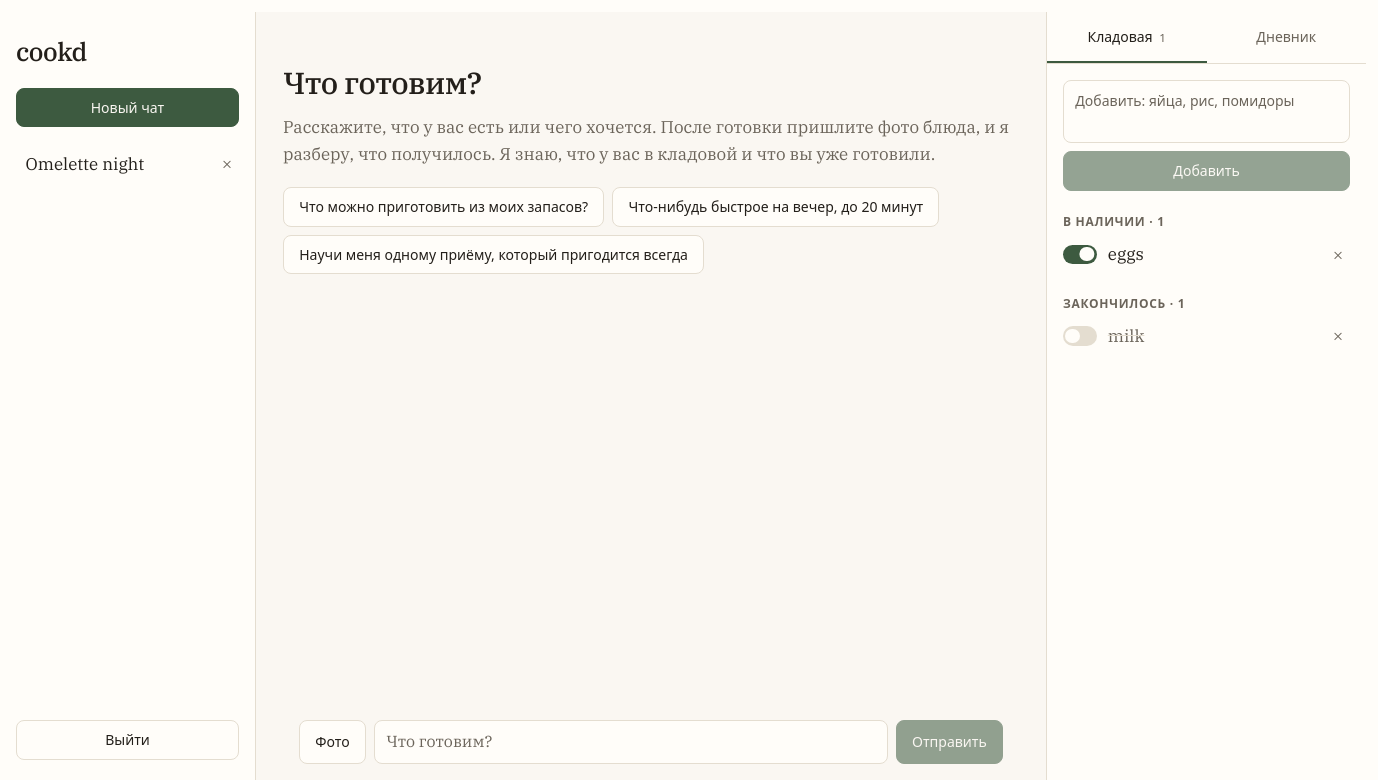
it: Workspace › moves an ingredient to Out when its switch is flipped
The image size is (1378, 780).
Step 1. Click the switch labelled "eggs" → [1080, 254], box [1063, 245, 1097, 264]
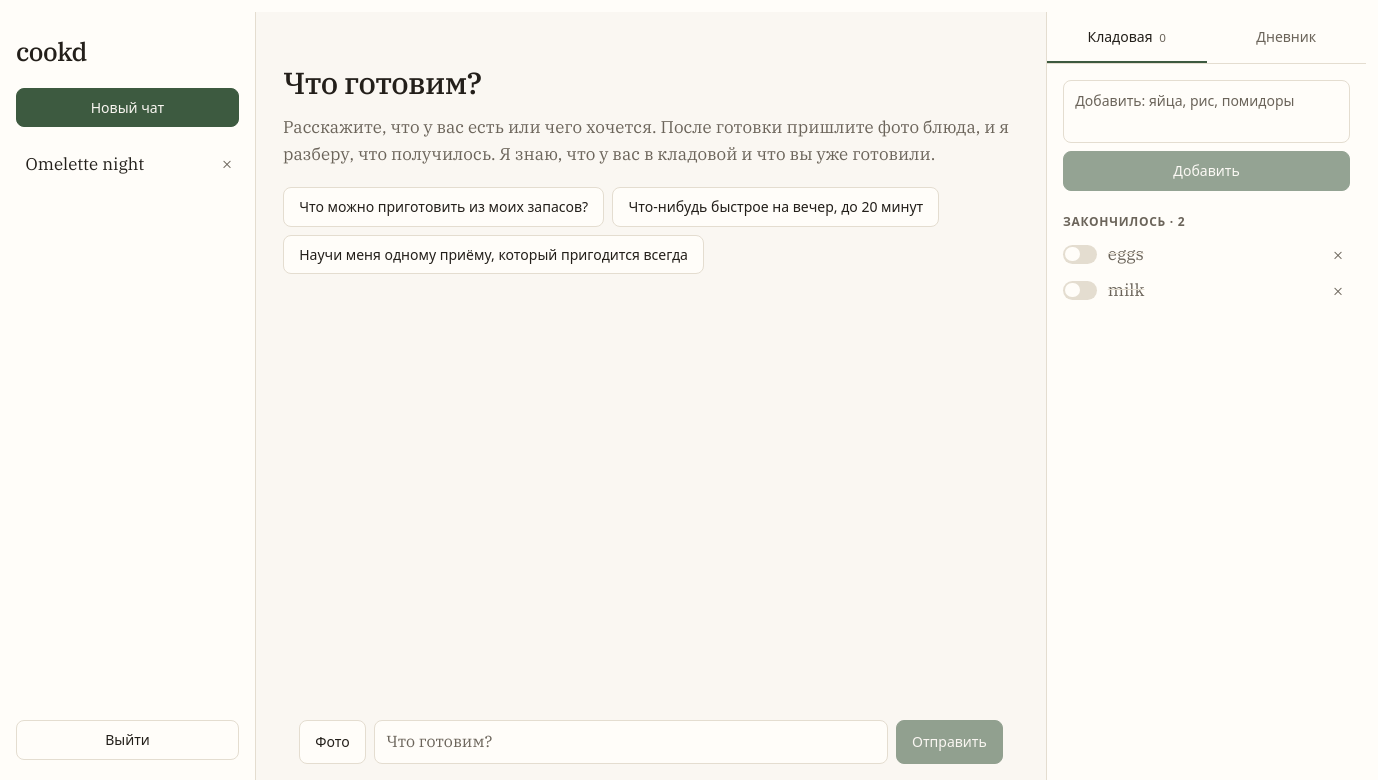
Result: the text "Закончилось · 2" is shown at [1063, 213, 1185, 230]
